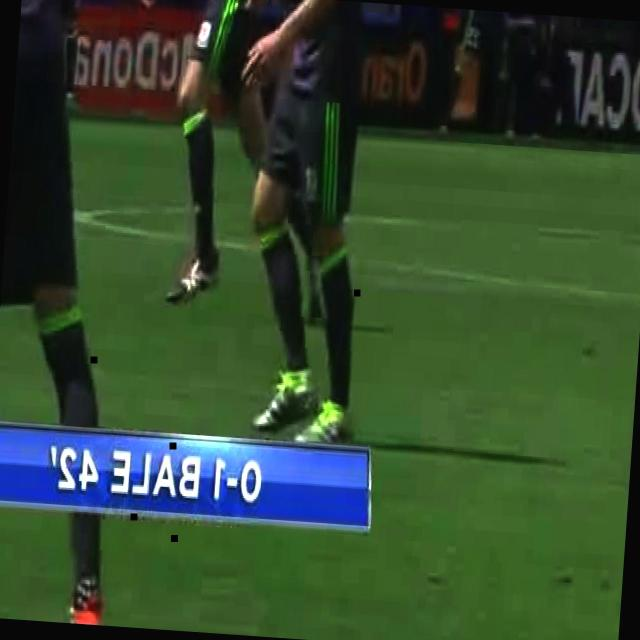player-white: (0, 0, 152, 626), (212, 0, 386, 458), (117, 0, 341, 316)
